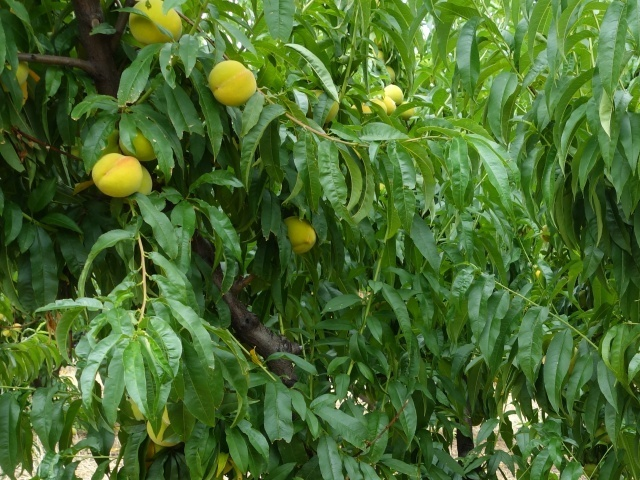peach: (203, 57, 261, 110), (87, 150, 144, 201), (127, 1, 189, 47), (276, 213, 322, 259), (113, 127, 159, 168), (140, 415, 187, 454), (126, 164, 161, 208), (360, 96, 390, 119), (380, 82, 407, 106), (375, 92, 400, 116)
